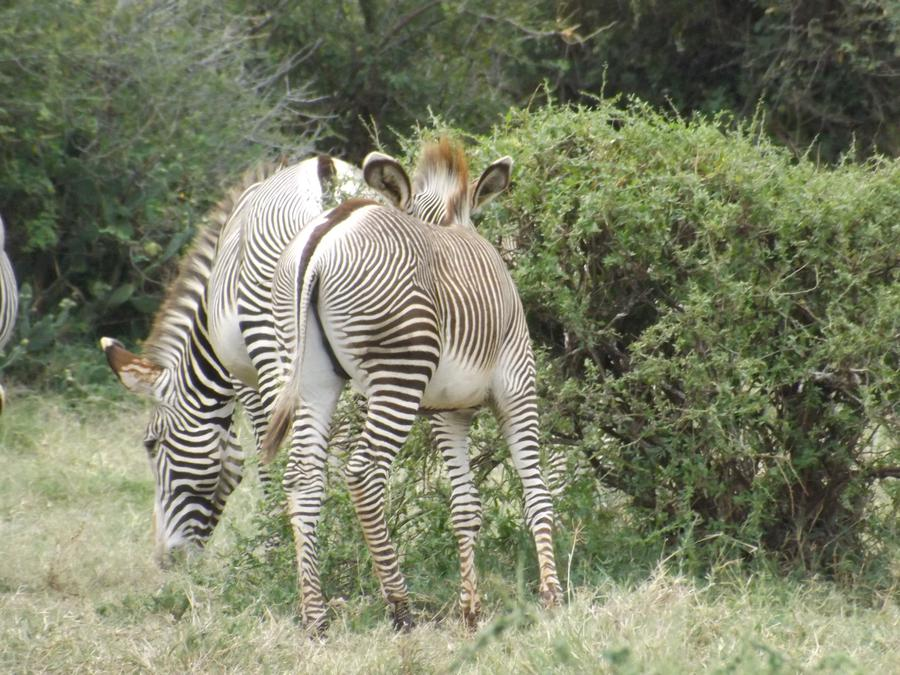zebra_grevys: (308, 208, 543, 391)
